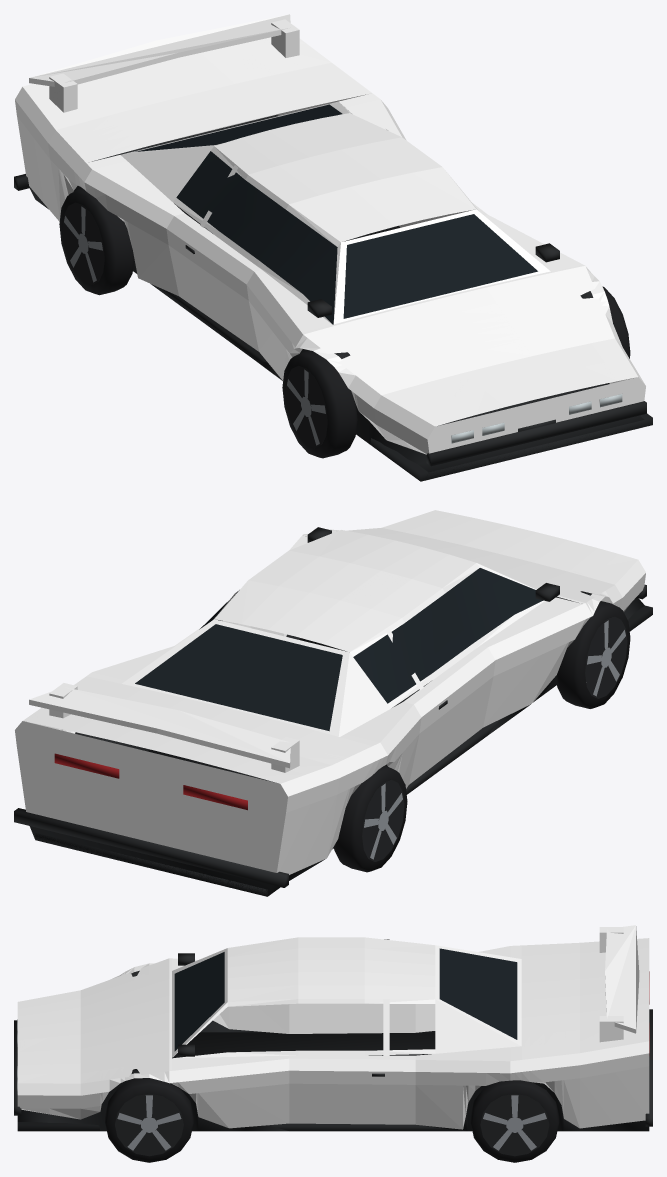
File: corsalto_ocre.glb
The picture shows the model from 3 angles, top to bottom: view 1: azimuth 30°, elevation 25°; view 2: azimuth 150°, elevation 25°; view 3: azimuth 270°, elevation 25°; orthographic projection. The views are drawn at different scales.
Parts seen in each view (by area): view 1: Body_Paint, Body_Details, Mount_FrontLeft_Wheel_Details, Mount_RearLeft_Wheel_Details; view 2: Body_Paint, Body_Details, Mount_FrontLeft_Wheel_Details, Mount_RearLeft_Wheel_Details; view 3: Body_Paint, Body_Details, Mount_FrontRight_Wheel_Details, Mount_RearRight_Wheel_Details.
Boxes of the visible parts, bbox=[...] form: Body_Paint: bbox=[15, 14, 645, 454]; Body_Details: bbox=[14, 104, 652, 481]; Mount_FrontLeft_Wheel_Details: bbox=[282, 350, 357, 458]; Mount_RearLeft_Wheel_Details: bbox=[59, 188, 134, 295]; Body_Paint: bbox=[15, 510, 645, 874]; Body_Details: bbox=[14, 527, 652, 896]; Mount_FrontLeft_Wheel_Details: bbox=[556, 601, 630, 708]; Mount_RearLeft_Wheel_Details: bbox=[334, 766, 407, 872]; Body_Paint: bbox=[17, 925, 649, 1129]; Body_Details: bbox=[14, 948, 652, 1131]; Mount_FrontRight_Wheel_Details: bbox=[105, 1078, 193, 1162]; Mount_RearRight_Wheel_Details: bbox=[470, 1080, 559, 1162].
Bounding box in the file's own units: 2.17 × 1.16 × 4.82.
2 materials, 1 textured.
